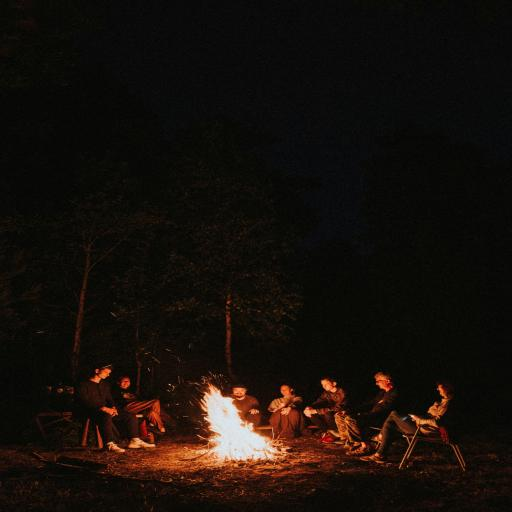campfire: (186, 382, 292, 470)
